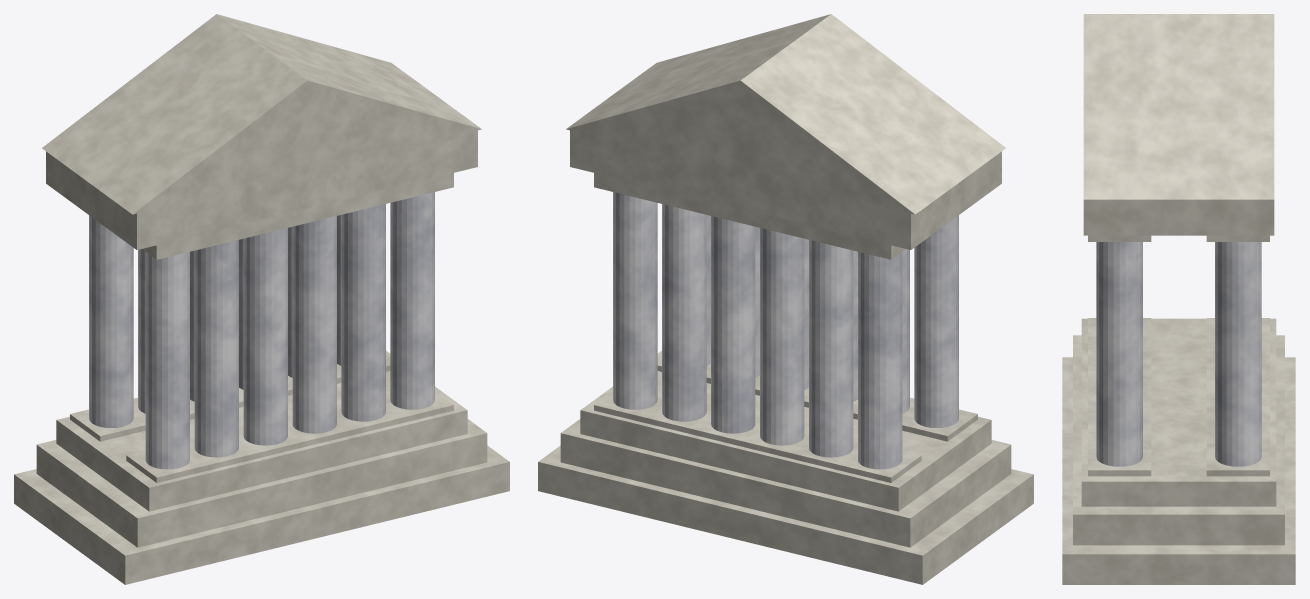
The model's file is gov.glb.
The picture shows the model from 3 angles, left to right: view 1: azimuth 30°, elevation 25°; view 2: azimuth 150°, elevation 25°; view 3: azimuth 270°, elevation 25°; orthographic projection. The views are drawn at different scales.
Visible parts, largest first — view 1: mx_gov; view 2: mx_gov; view 3: mx_gov.
Boxes of the visible parts, box(x1,y1,x2,y2) form: mx_gov: box(14, 14, 509, 584); mx_gov: box(538, 14, 1033, 584); mx_gov: box(1062, 14, 1295, 584).
Size of the model in its own units: 1.79 by 2 by 0.8943.
1 material, 1 textured.
